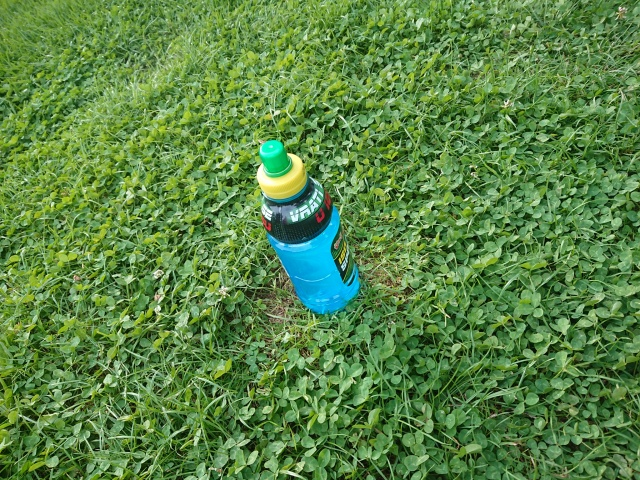Vindi Iso Sport Forest Strawberries 500mL: (255, 138, 362, 316)
